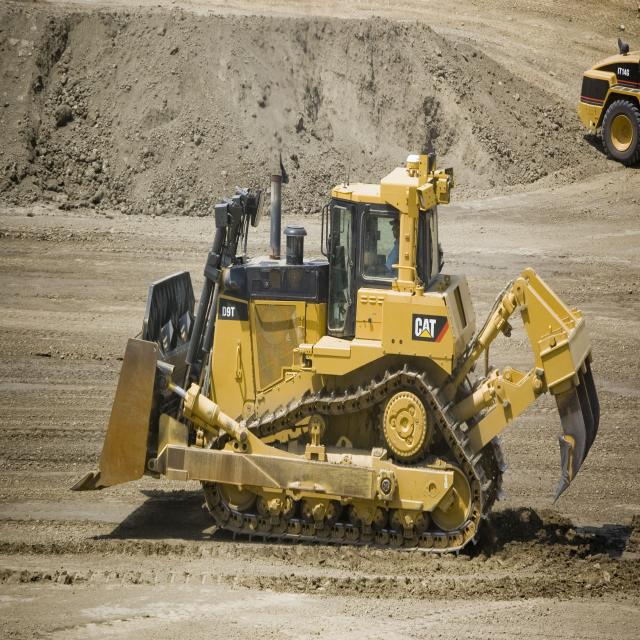buldozerpayloadergrader: (75, 128, 605, 577)
